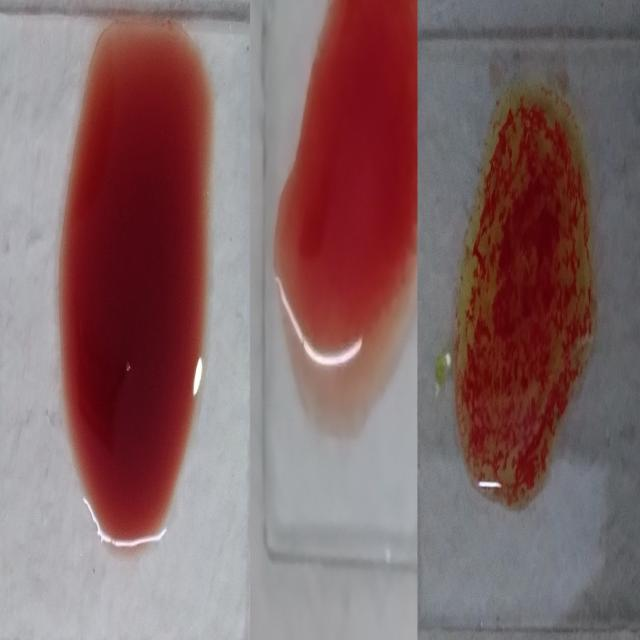B: (467, 75, 586, 515)
